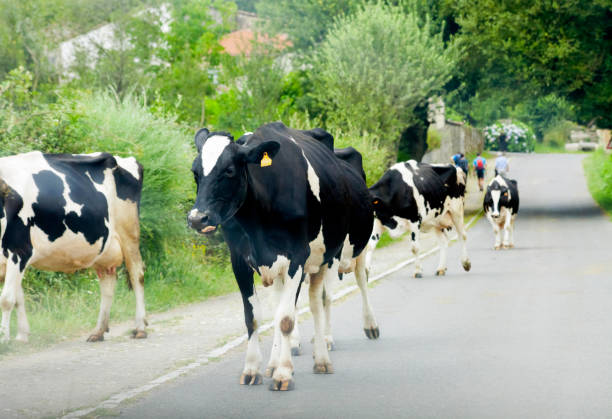inek: (180, 111, 394, 388), (0, 140, 173, 357), (377, 150, 477, 277), (481, 167, 526, 255)
